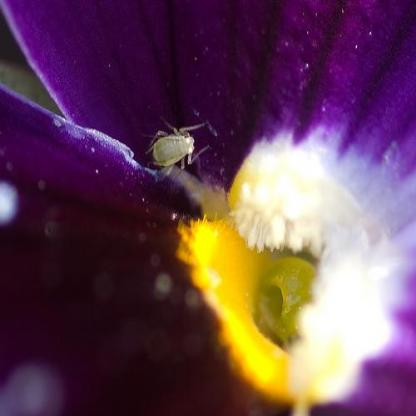aphid: (133, 111, 212, 176)
